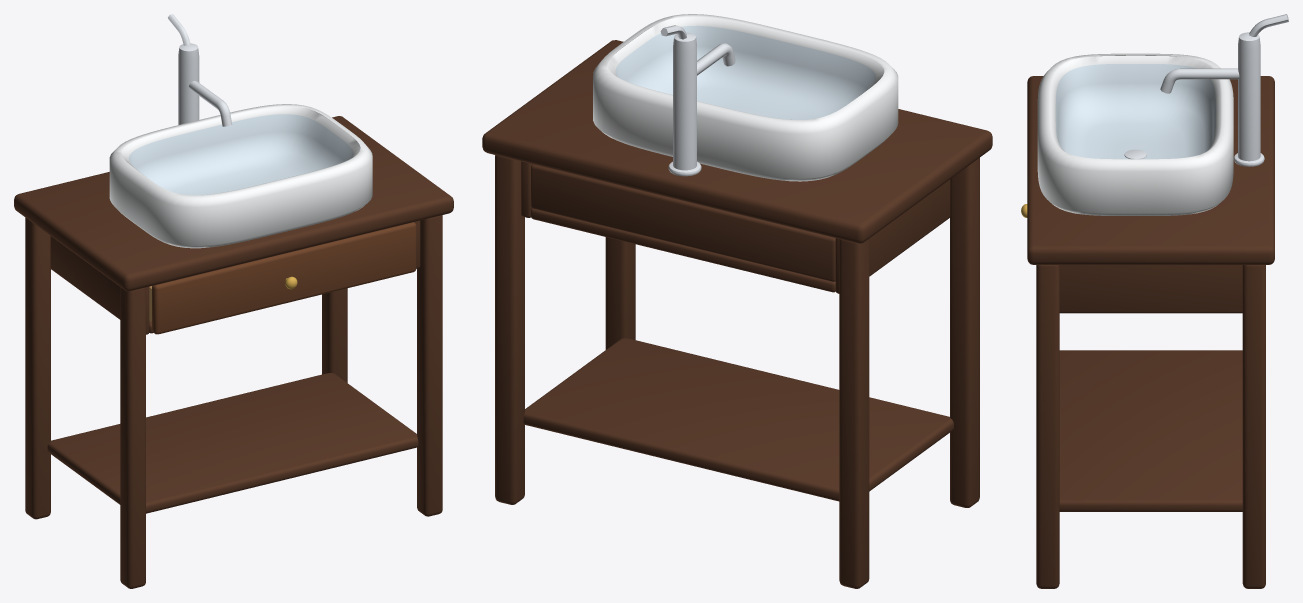
Rendered from pia_bancada_nogueira.glb.
3 views of the same model, side by side, from view 1: azimuth 30°, elevation 25°; view 2: azimuth 150°, elevation 25°; view 3: azimuth 270°, elevation 25° (orthographic). The views are drawn at different scales.
Visible parts, largest first — view 1: pia_bancada_nogueira, gaveta_1; view 2: pia_bancada_nogueira; view 3: pia_bancada_nogueira.
Part boxes in pixels (left/top/right/bottom): pia_bancada_nogueira: left=14, top=14, right=453, bottom=588; gaveta_1: left=149, top=222, right=416, bottom=334; pia_bancada_nogueira: left=482, top=14, right=992, bottom=588; pia_bancada_nogueira: left=1027, top=14, right=1288, bottom=588.
Size of the model in its own units: 0.8 by 1.05 by 0.5189.
Materials: 1 (1 with a texture image).
